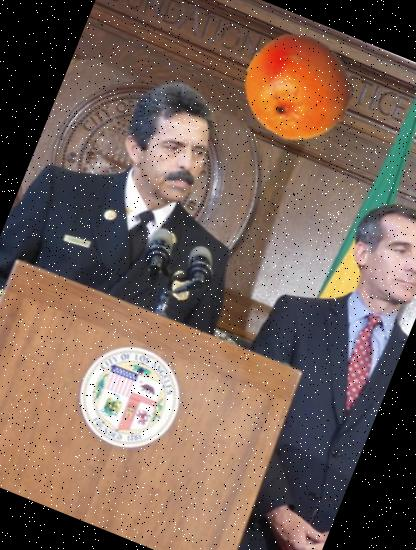Grapefruit: (227, 18, 368, 158)
